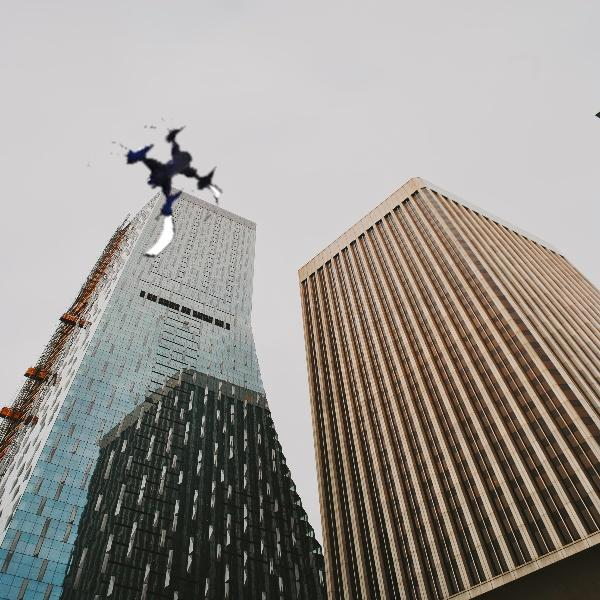drone: (86, 111, 228, 253)
